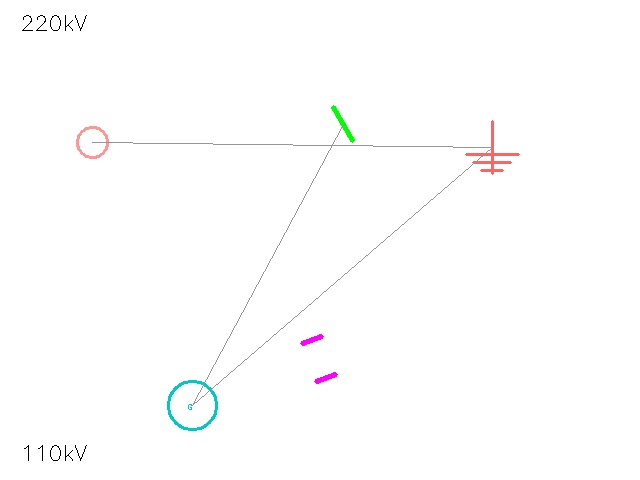busbar: (319, 100, 367, 148)
capacitor: (285, 325, 353, 393)
generator: (168, 381, 216, 429)
ground: (466, 121, 518, 173)
load_break_switch: (61, 111, 123, 173)
